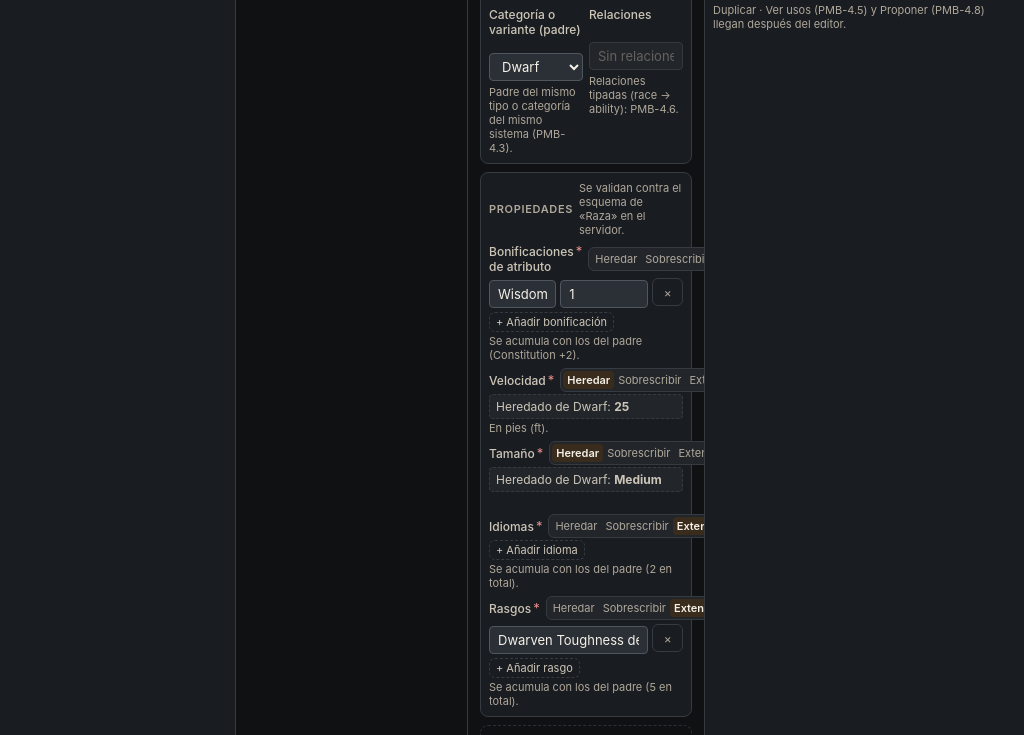
Prototipo del editor universal (PMB-4.4) › hereda del padre por defecto y permite cambiar el modo por campo
(page scrolled)
Expected: the text "Heredado de Dwarf: 25" is shown 2 times, [489, 394, 683, 419]; [489, 467, 683, 492]
Click the button "Sobrescribir" in the row of "Velocidad" at coordinates (650, 380), box [614, 371, 686, 389]
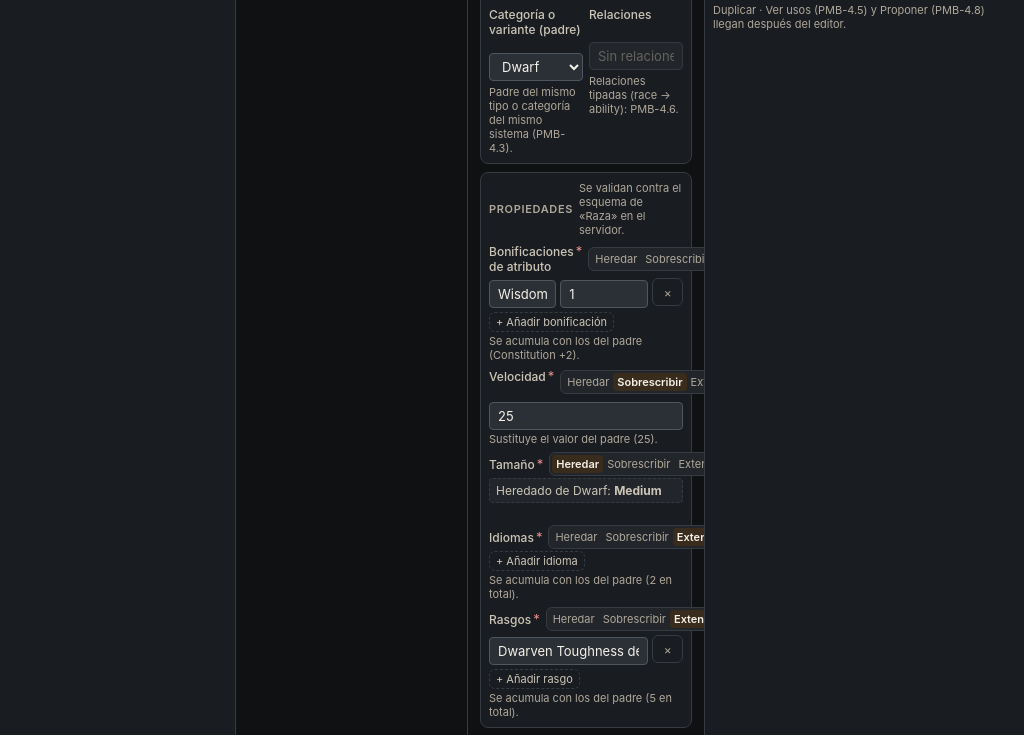
Expected: the number field labelled "Velocidad" is enabled, [489, 402, 683, 430]
Expected: the text "Sustituye el valor del padre (25)." is shown, [489, 432, 683, 446]
